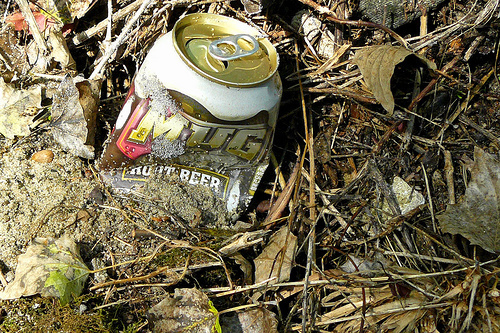litter: (103, 10, 282, 228)
